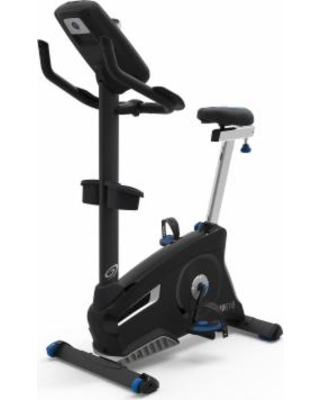gym_bike: (28, 7, 289, 393)
